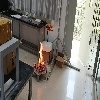fire: (35, 41, 45, 68)
